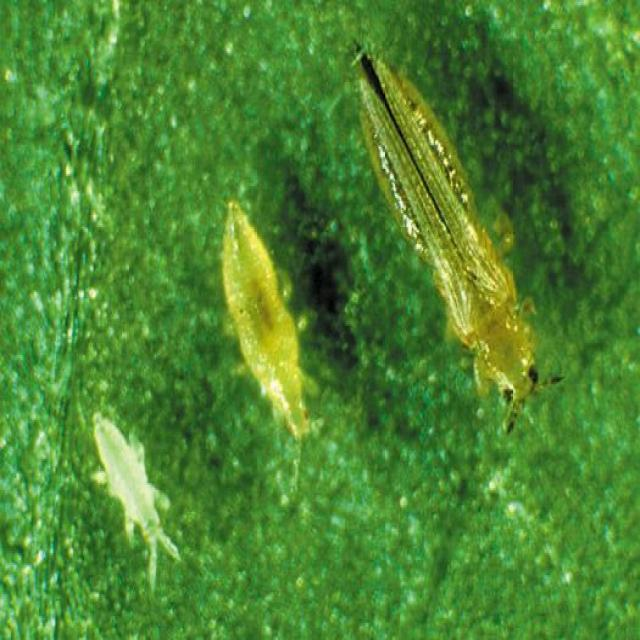Thrip-Adult-: (342, 31, 572, 435)
Thrip-Larva-: (196, 176, 328, 463), (86, 392, 203, 602)
